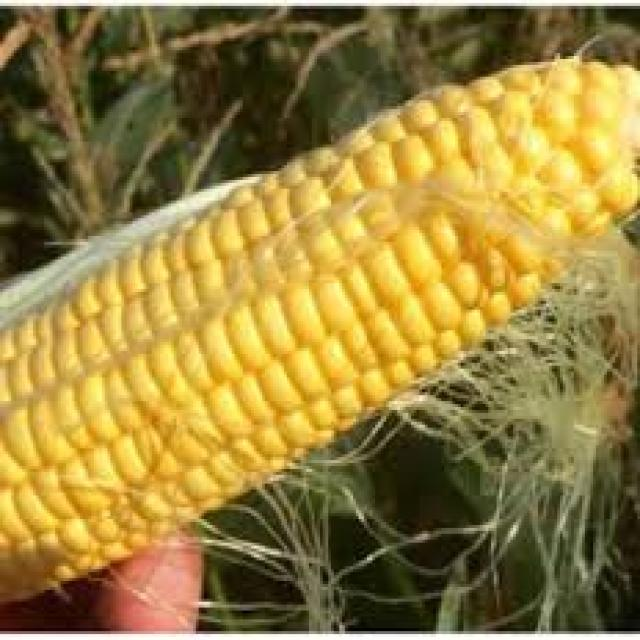purecorn: (4, 34, 640, 539)
